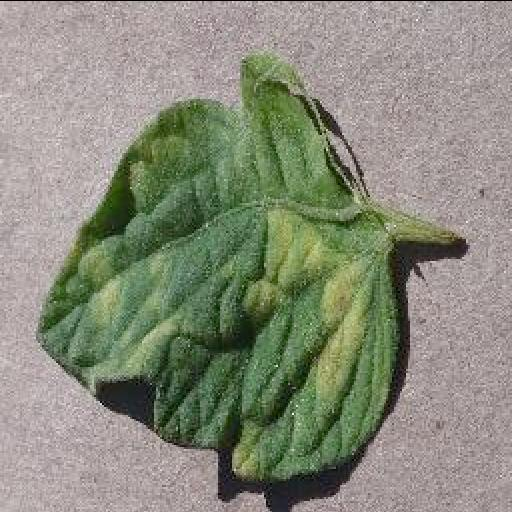disease_tomato: (33, 54, 403, 478)
